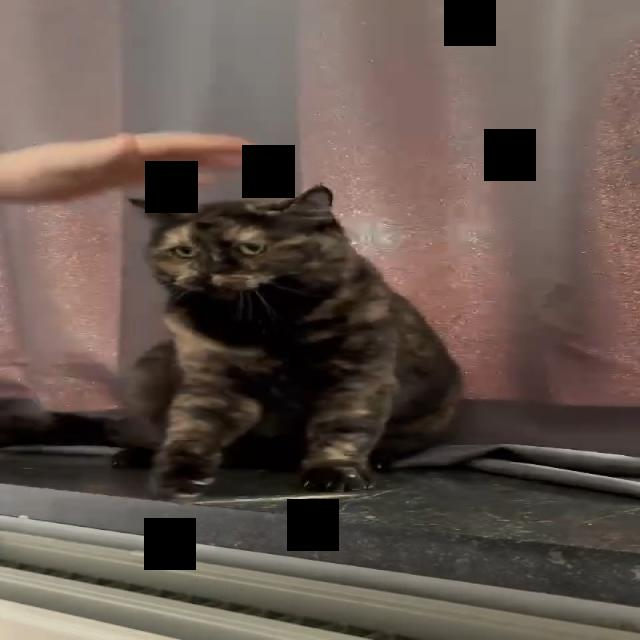authorized: (116, 182, 464, 500)
